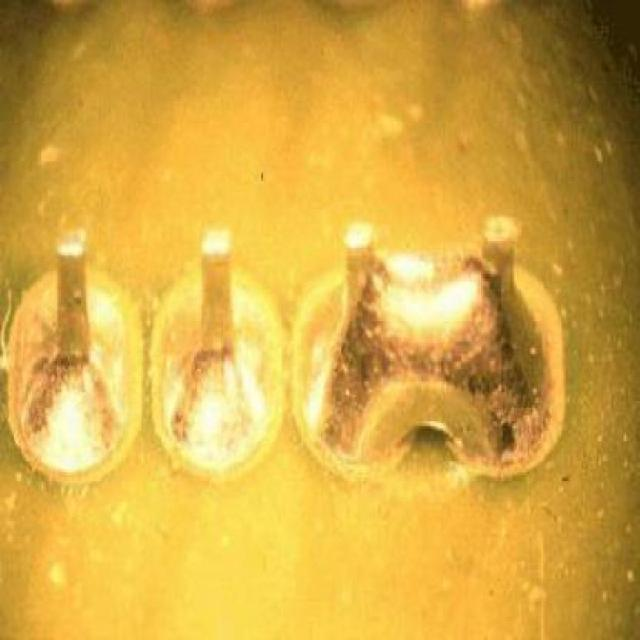Soldering shorted: (306, 214, 545, 462)
